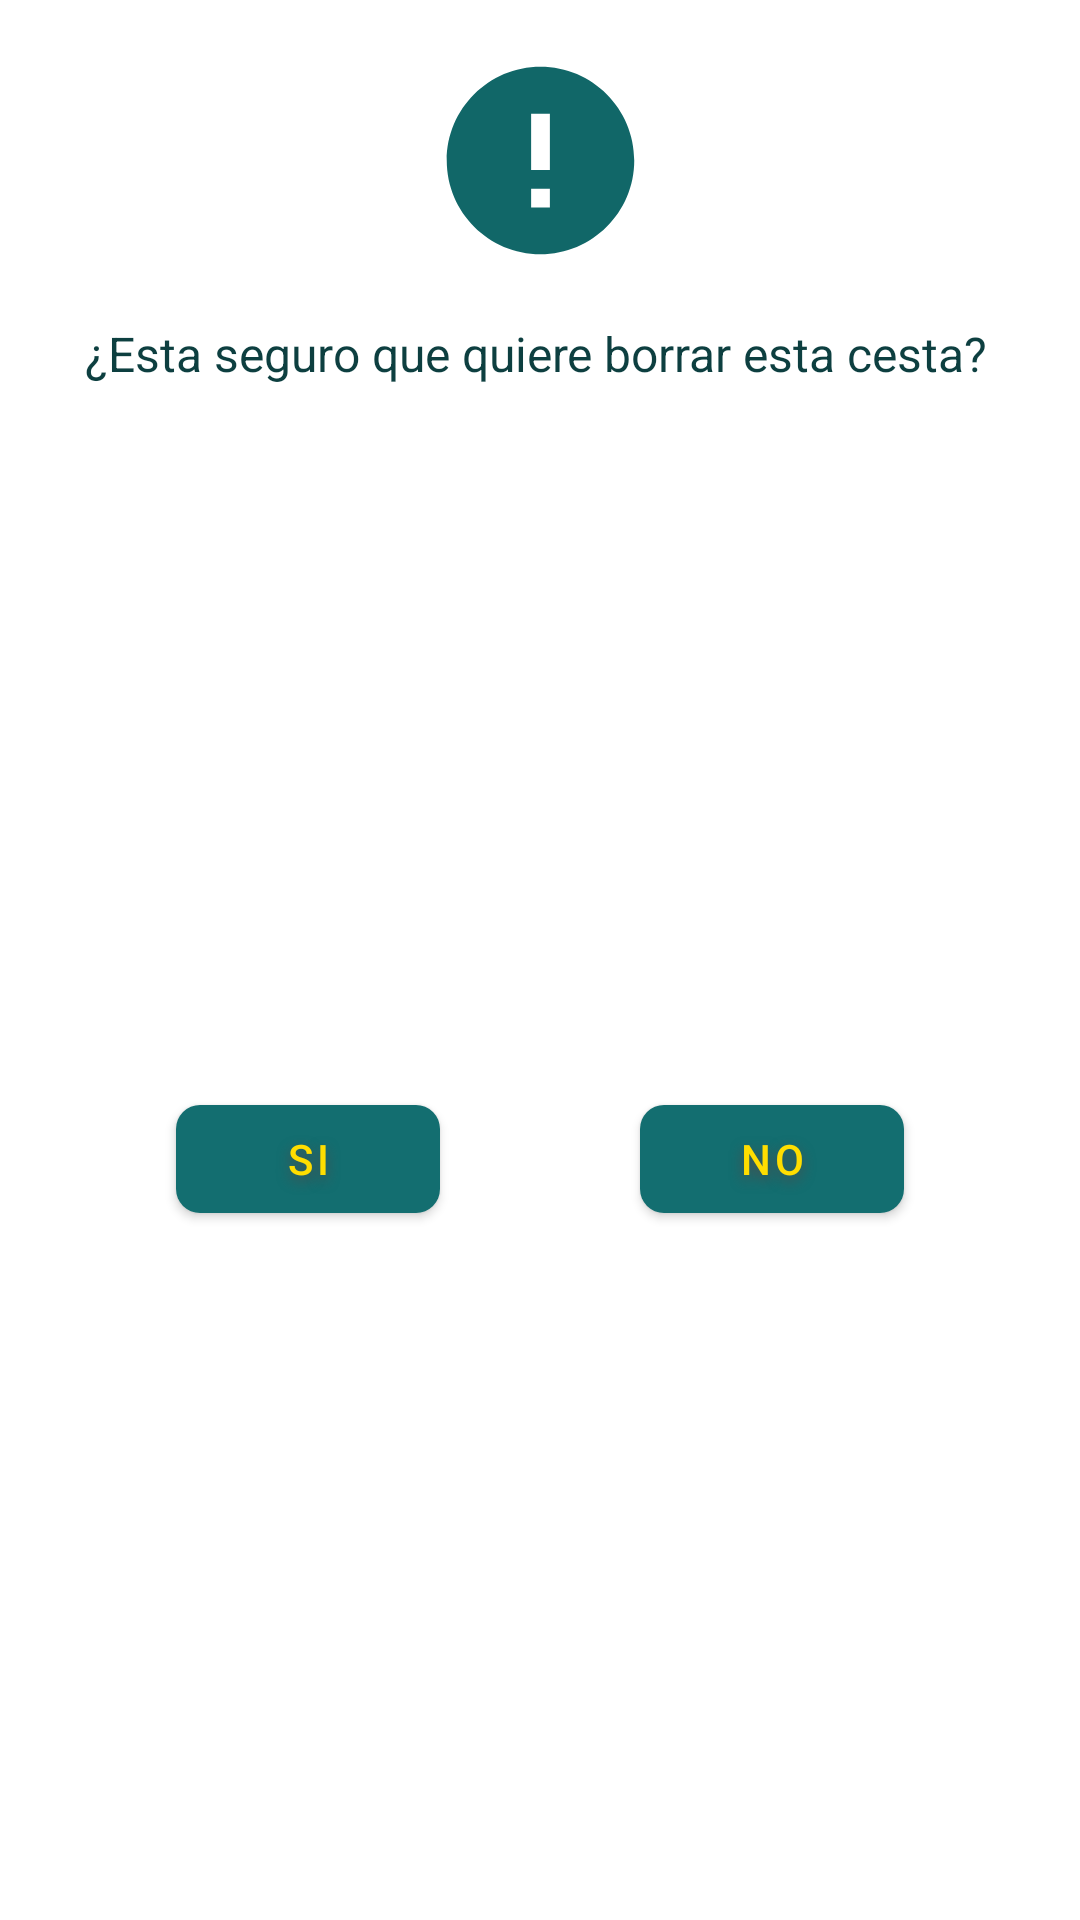

Point at icon controls on the screen. Image size 1080*1920, points as (x=x, y=y).
caution: (x=540, y=160)
